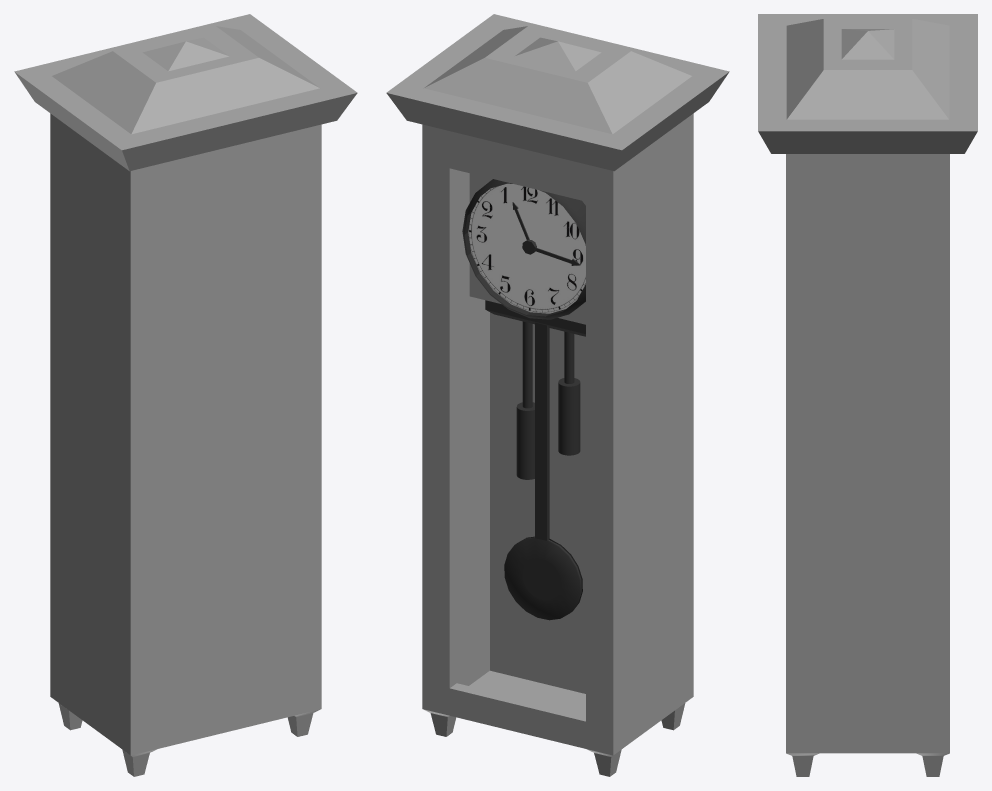
Rendered from Clock.fbx.
The picture shows the model from 3 angles, left to right: view 1: azimuth 30°, elevation 25°; view 2: azimuth 150°, elevation 25°; view 3: azimuth 270°, elevation 25°; orthographic projection. The views are drawn at different scales.
Visible parts, largest first — view 1: clock; view 2: clock; view 3: clock.
Boxes of the visible parts, bbox=[...] form: clock: bbox=[14, 14, 357, 776]; clock: bbox=[386, 14, 729, 776]; clock: bbox=[758, 14, 977, 776].
Size of the model in its own units: 17.31 by 48.32 by 13.69.
3 materials, 1 textured.
